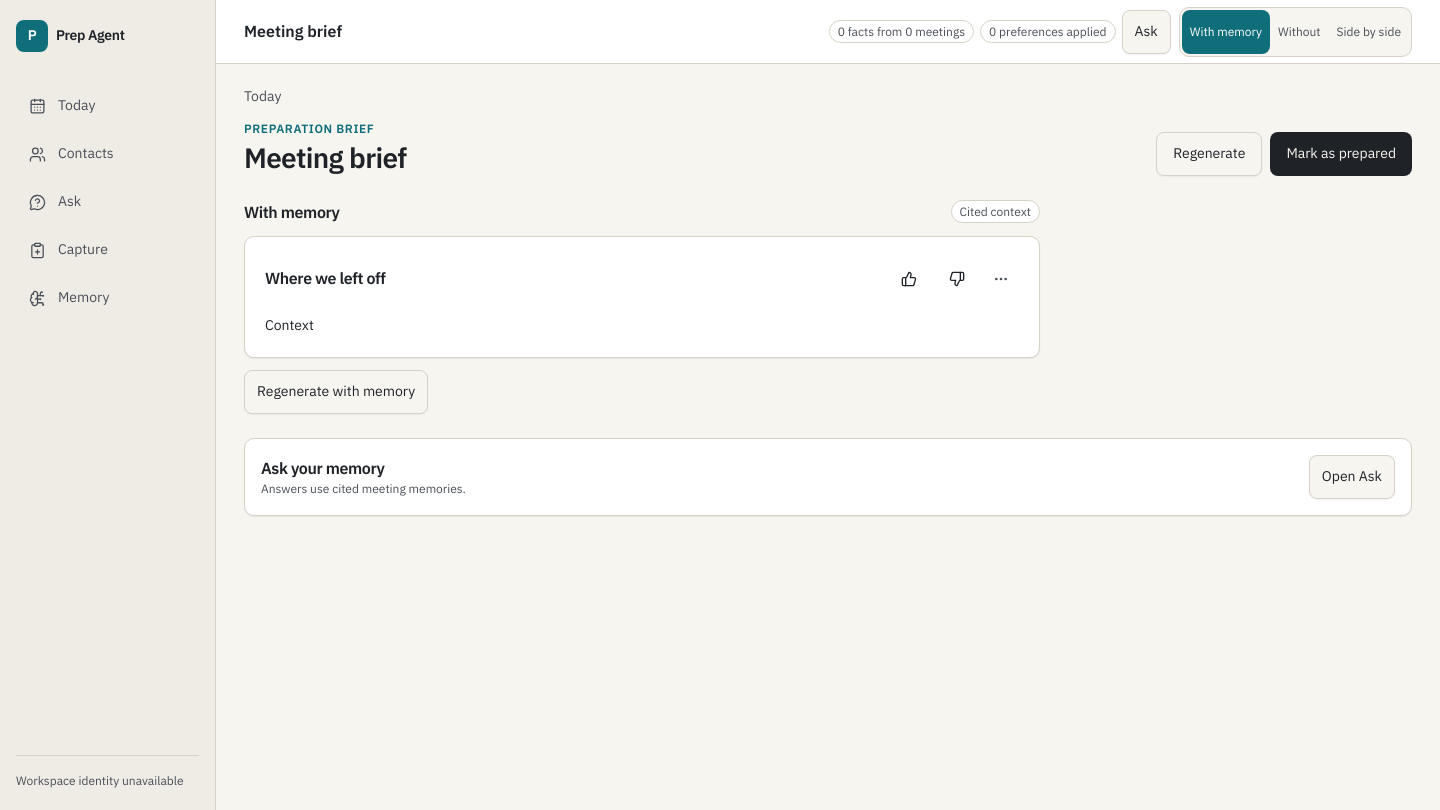
Test case: Brief page › shows the generating skeleton and wait message for a slow mocked brief response
The width and height of the screenshot is (1440, 810).
Click the button "Regenerate with memory". click: click(336, 392)
box: [244,370,428,414]
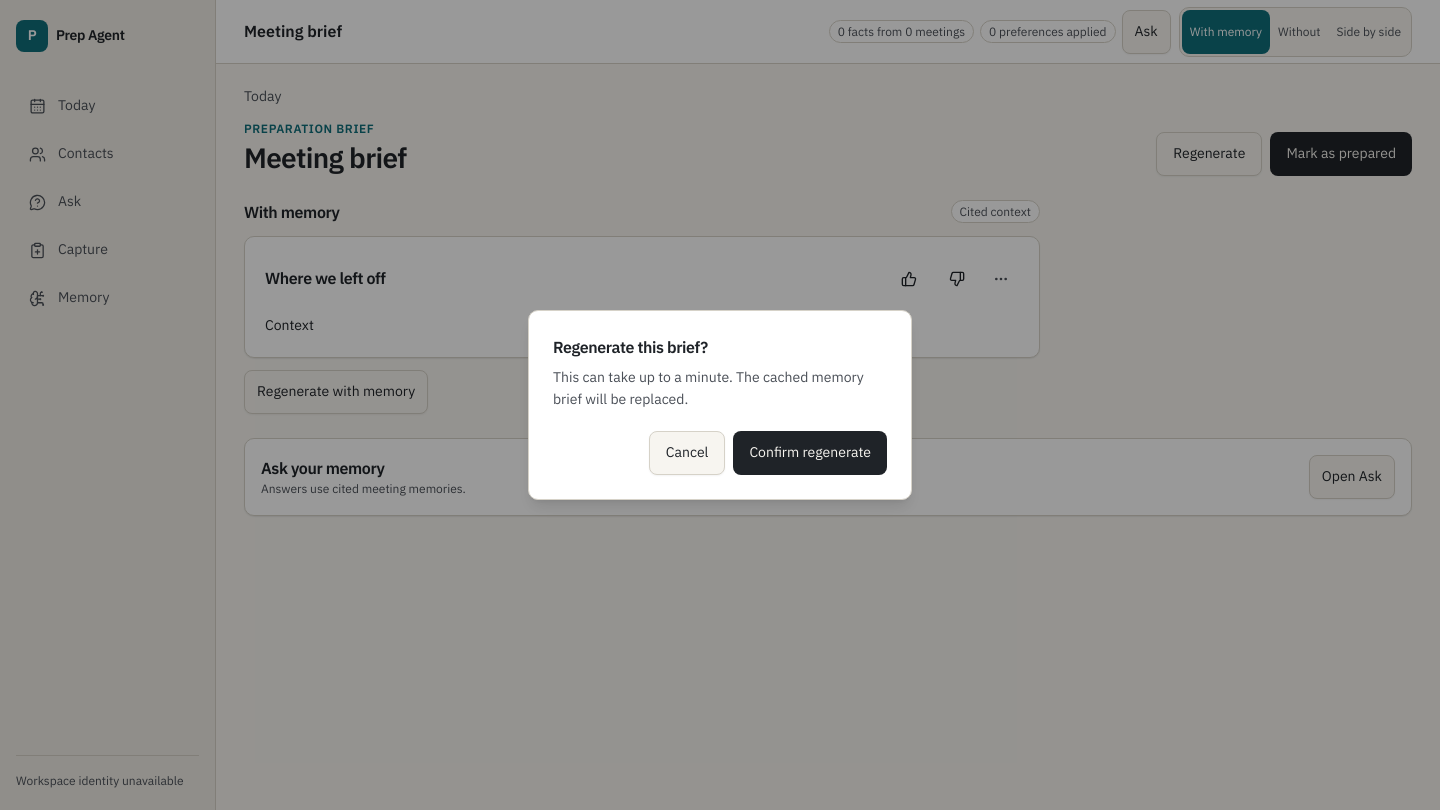
Click the button "Confirm regenerate". click: click(810, 453)
box: [733,431,887,475]
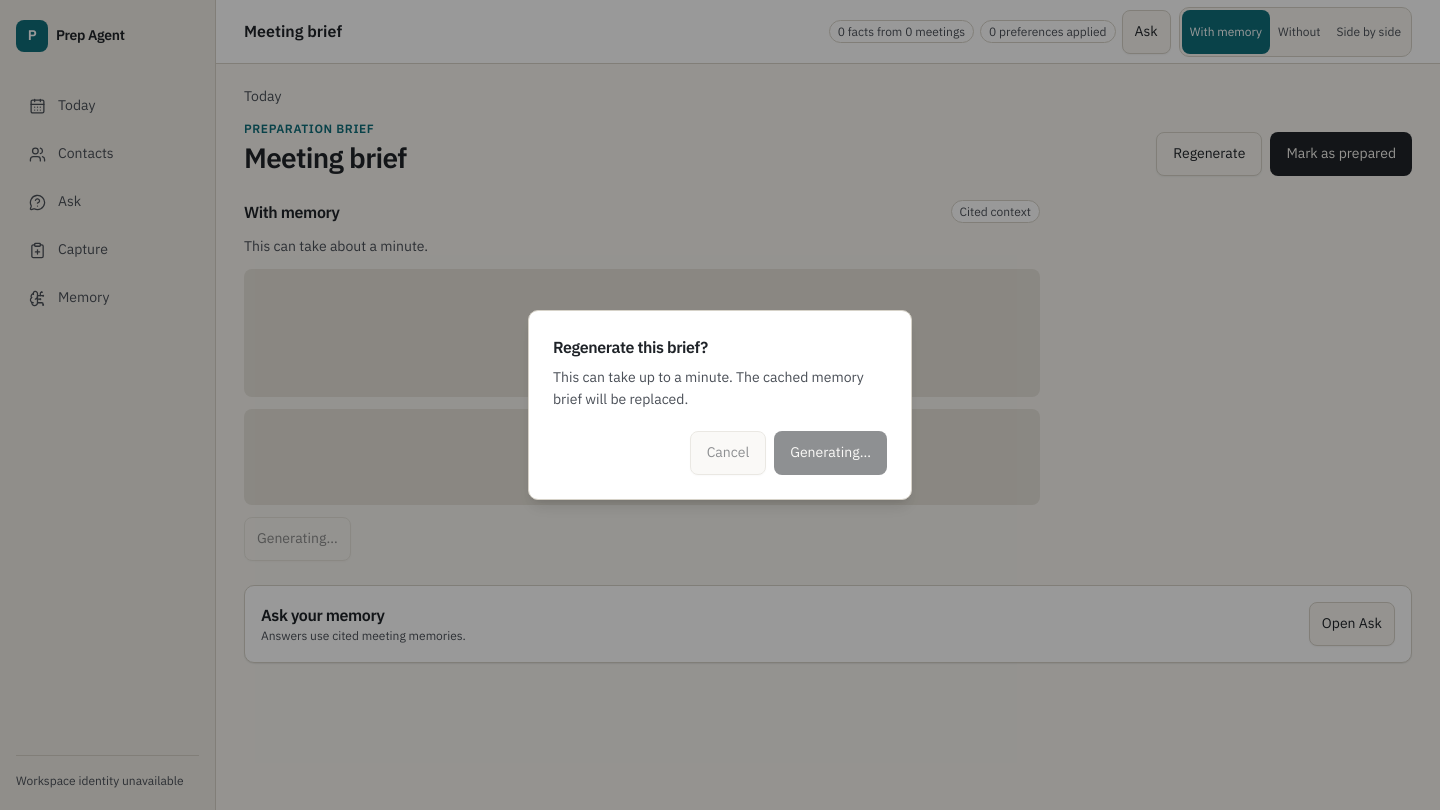
Expected: the text "This can take about a minute." is shown, [244,237,428,255]
Expected: the element named "Generating memory brief" is shown, [244,236,1040,505]
